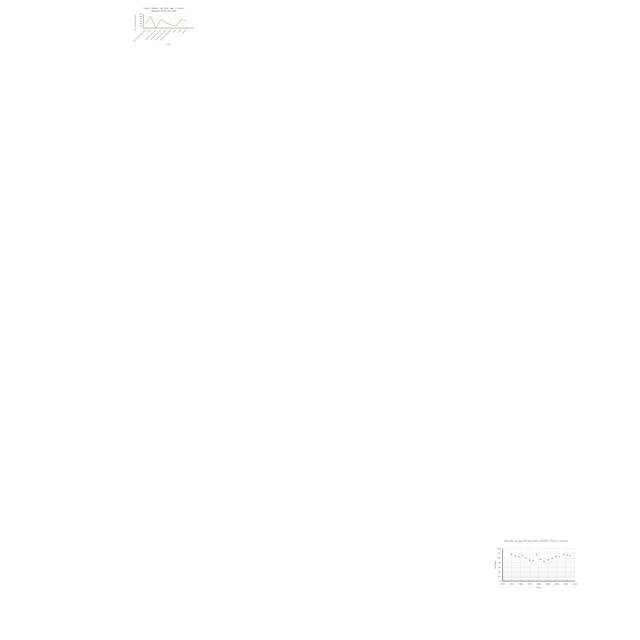Graph: (491, 538, 578, 589), (133, 6, 194, 46)
